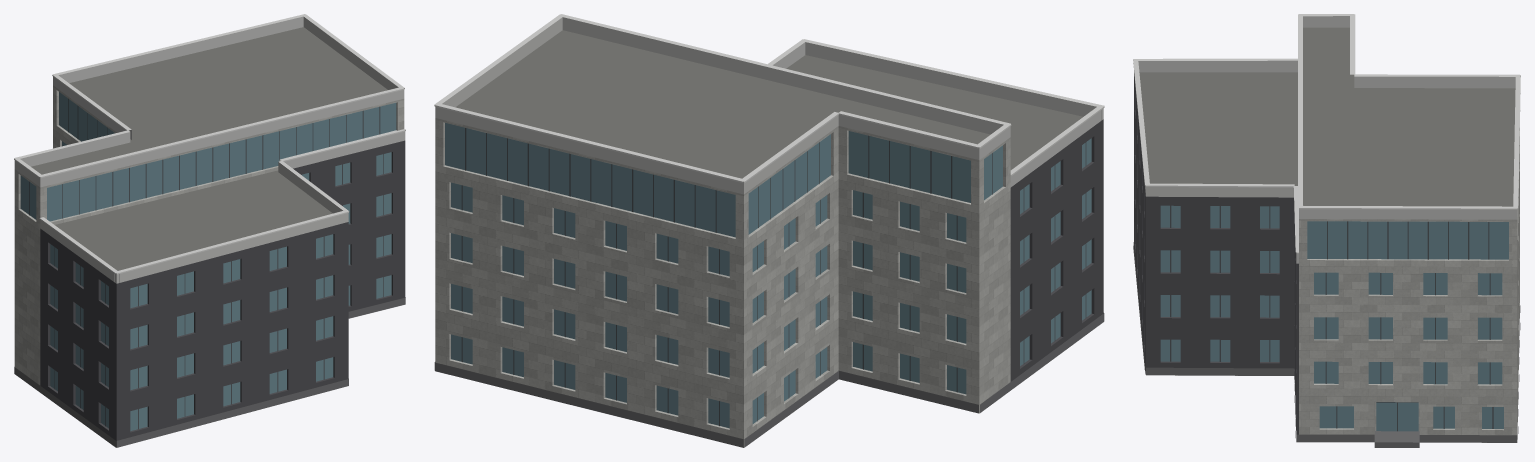
The picture shows the model from 3 angles, left to right: view 1: azimuth 30°, elevation 25°; view 2: azimuth 150°, elevation 25°; view 3: azimuth 270°, elevation 25°; orthographic projection. The views are drawn at different scales.
Parts seen in each view (by area): view 1: banya__wall2, banya__roof, banya__glass, banya__parapet, banya__wall, banya__trim, banya__base, banya__frame; view 2: banya__wall, banya__glass, banya__roof, banya__parapet, banya__wall2, banya__trim, banya__base, banya__frame; view 3: banya__roof, banya__wall, banya__wall2, banya__glass, banya__parapet, banya__trim, banya__base, banya__frame.
Part boxes in pixels (x1,y1,x2,y2): banya__wall2: [40, 140, 405, 447]; banya__roof: [31, 27, 387, 447]; banya__glass: [20, 92, 396, 431]; banya__parapet: [14, 16, 405, 283]; banya__wall: [14, 85, 404, 385]; banya__trim: [14, 14, 405, 274]; banya__base: [14, 297, 405, 447]; banya__frame: [29, 98, 383, 429]; banya__wall: [435, 118, 1010, 447]; banya__glass: [445, 123, 1091, 428]; banya__roof: [455, 30, 1083, 413]; banya__parapet: [435, 17, 1103, 194]; banya__wall2: [1010, 119, 1103, 381]; banya__trim: [434, 14, 1104, 182]; banya__base: [434, 313, 1104, 447]; banya__frame: [461, 128, 1086, 426]; banya__roof: [1139, 27, 1515, 442]; banya__wall: [1299, 129, 1519, 438]; banya__wall2: [1134, 73, 1298, 434]; banya__glass: [1160, 205, 1508, 431]; banya__parapet: [1134, 16, 1517, 263]; banya__trim: [1133, 14, 1520, 253]; banya__base: [1133, 242, 1520, 447]; banya__frame: [1170, 205, 1493, 431].
Bounding box in the file's own units: 32.78 × 18.8 × 27.59.
9 materials, 1 textured.
